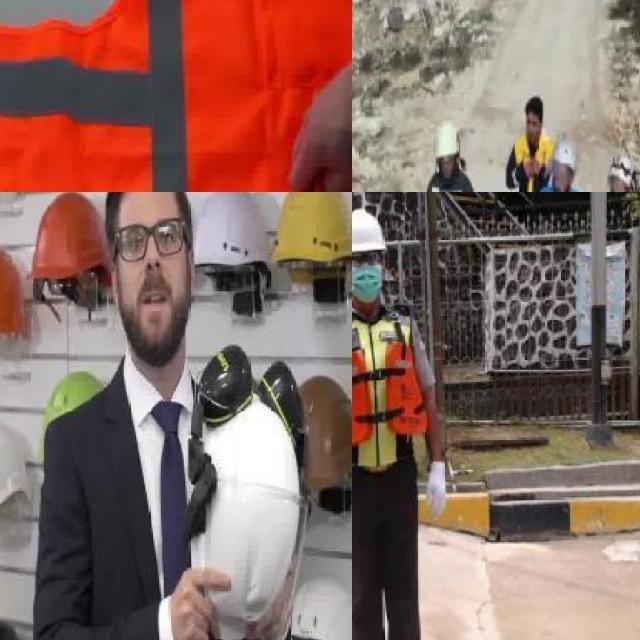apron: (424, 459, 449, 524)
